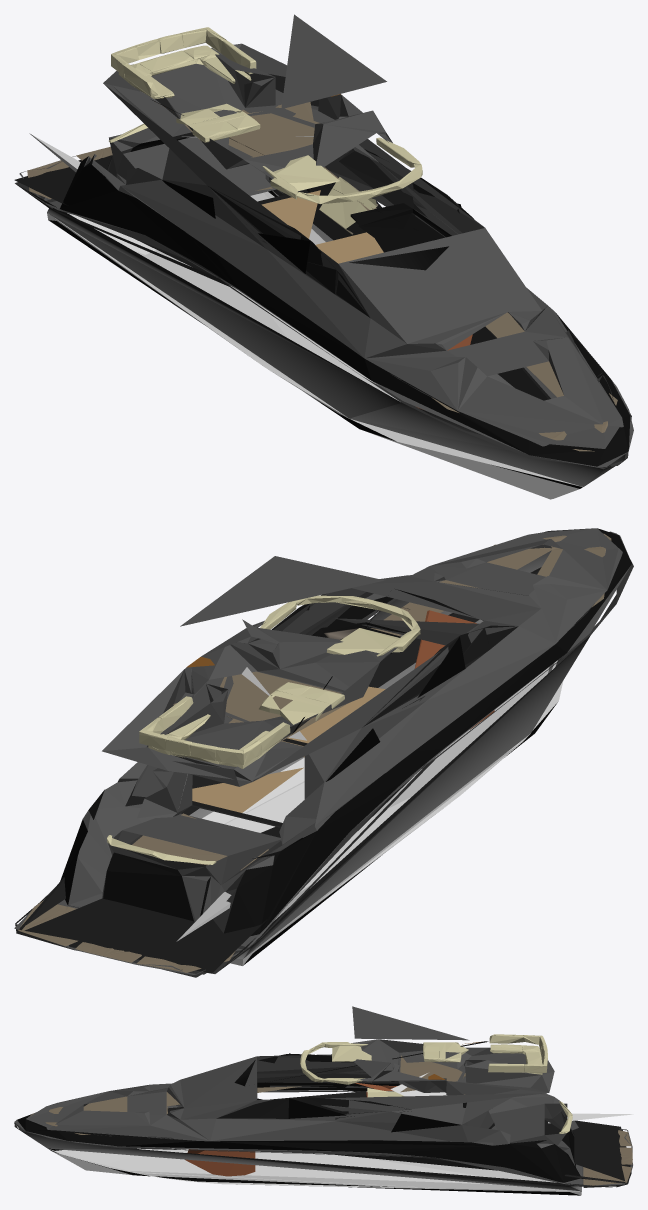
Rendered from lux-yacht.lod2.glb.
The picture shows the model from 3 angles, top to bottom: view 1: azimuth 30°, elevation 25°; view 2: azimuth 150°, elevation 25°; view 3: azimuth 270°, elevation 25°; orthographic projection. The views are drawn at different scales.
Parts seen in each view (by area): view 1: Object_4; view 2: Object_4; view 3: Object_4.
Boxes of the visible parts, bbox=[...] form: Object_4: bbox=[14, 14, 633, 499]; Object_4: bbox=[14, 528, 633, 977]; Object_4: bbox=[14, 1006, 633, 1195].
Size of the model in its own units: 8.48 by 10.05 by 35.93.
